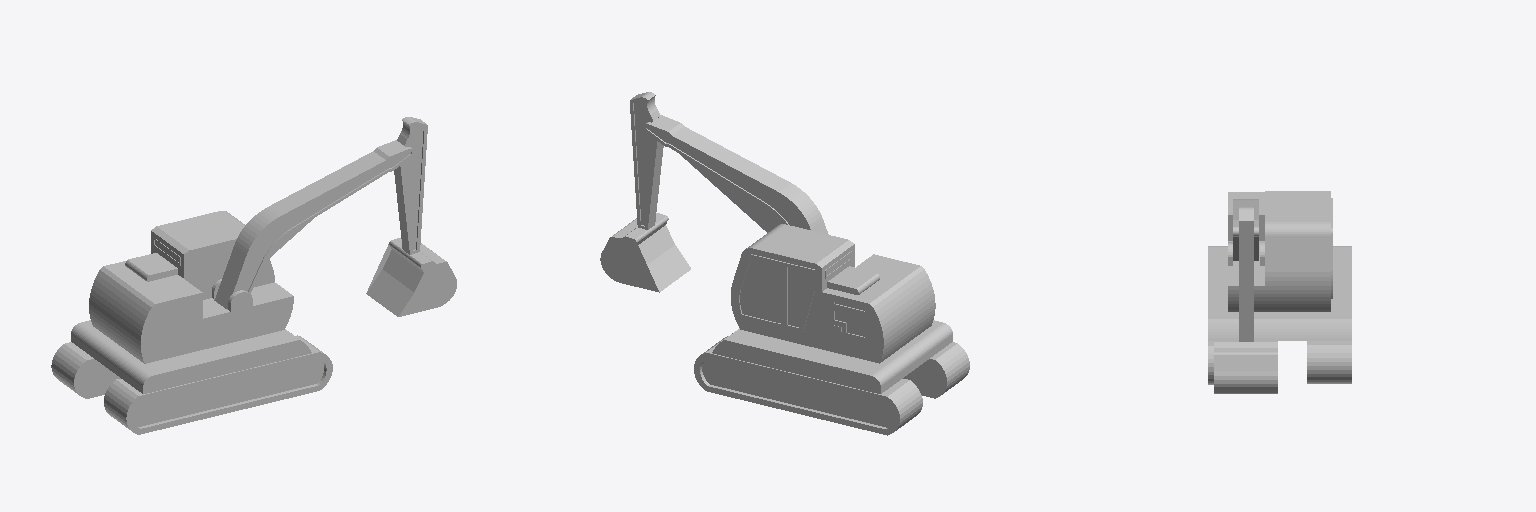
The model's file is CX CONSTRUCTOR.obj.
3 renders of one model, left to right at view 1: azimuth 30°, elevation 25°; view 2: azimuth 150°, elevation 25°; view 3: azimuth 270°, elevation 25°, orthographic.
Parts seen in each view (by area): view 1: Mesh6 Group6 Model, Mesh2 Group3 Group1 Model, Mesh4 Group4 Model, Mesh5 Group5 Model, Mesh3 Group1 Model, Mesh1 Group2 Group1 Model; view 2: Mesh6 Group6 Model, Mesh1 Group2 Group1 Model, Mesh4 Group4 Model, Mesh5 Group5 Model, Mesh3 Group1 Model, Mesh2 Group3 Group1 Model; view 3: Mesh6 Group6 Model, Mesh3 Group1 Model, Mesh4 Group4 Model, Mesh1 Group2 Group1 Model, Mesh5 Group5 Model.
Part boxes in pixels (left/top/right/bottom): Mesh6 Group6 Model: left=89, top=211, right=293, bottom=363; Mesh2 Group3 Group1 Model: left=104, top=335, right=332, bottom=434; Mesh4 Group4 Model: left=366, top=117, right=456, bottom=316; Mesh5 Group5 Model: left=214, top=140, right=414, bottom=309; Mesh3 Group1 Model: left=71, top=320, right=311, bottom=393; Mesh1 Group2 Group1 Model: left=51, top=342, right=120, bottom=398; Mesh6 Group6 Model: left=731, top=224, right=935, bottom=363; Mesh1 Group2 Group1 Model: left=694, top=336, right=922, bottom=435; Mesh4 Group4 Model: left=600, top=92, right=690, bottom=292; Mesh5 Group5 Model: left=643, top=115, right=828, bottom=234; Mesh3 Group1 Model: left=712, top=320, right=952, bottom=393; Mesh2 Group3 Group1 Model: left=903, top=342, right=969, bottom=398; Mesh6 Group6 Model: left=1228, top=191, right=1332, bottom=311; Mesh3 Group1 Model: left=1208, top=246, right=1351, bottom=340; Mesh4 Group4 Model: left=1214, top=207, right=1277, bottom=393; Mesh1 Group2 Group1 Model: left=1307, top=341, right=1351, bottom=383; Mesh5 Group5 Model: left=1233, top=199, right=1258, bottom=260.
Bounding box in the file's own units: 6.3 × 4.11 × 2.34.